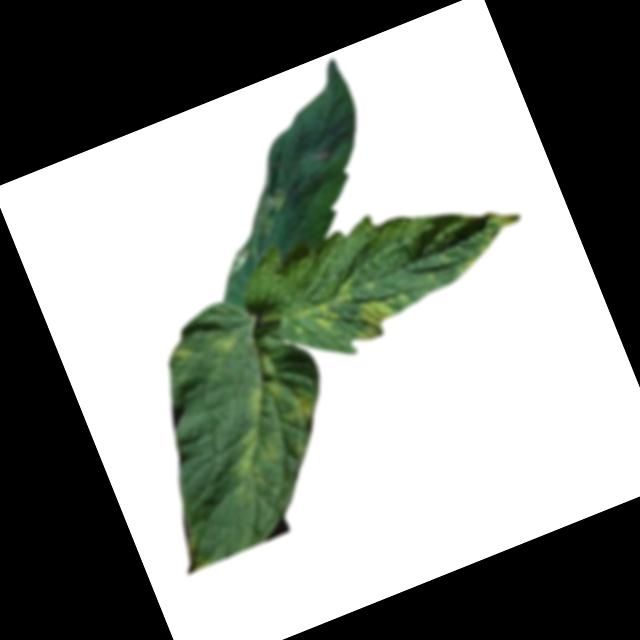Leaf_Mold: (204, 183, 305, 278), (214, 423, 288, 500), (345, 290, 406, 345), (279, 385, 325, 427), (302, 298, 343, 339), (482, 202, 524, 237), (203, 331, 240, 363), (330, 275, 362, 306), (169, 344, 194, 366)
